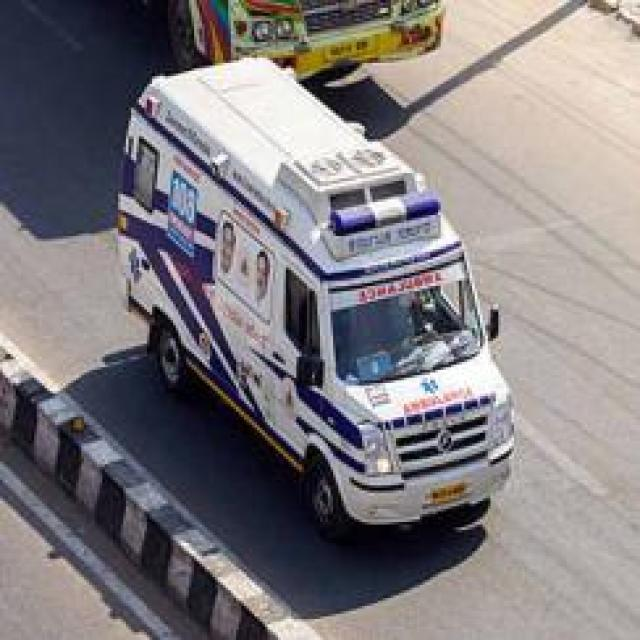Ambulance: (0, 0, 637, 637), (108, 52, 520, 546), (154, 0, 448, 89)
